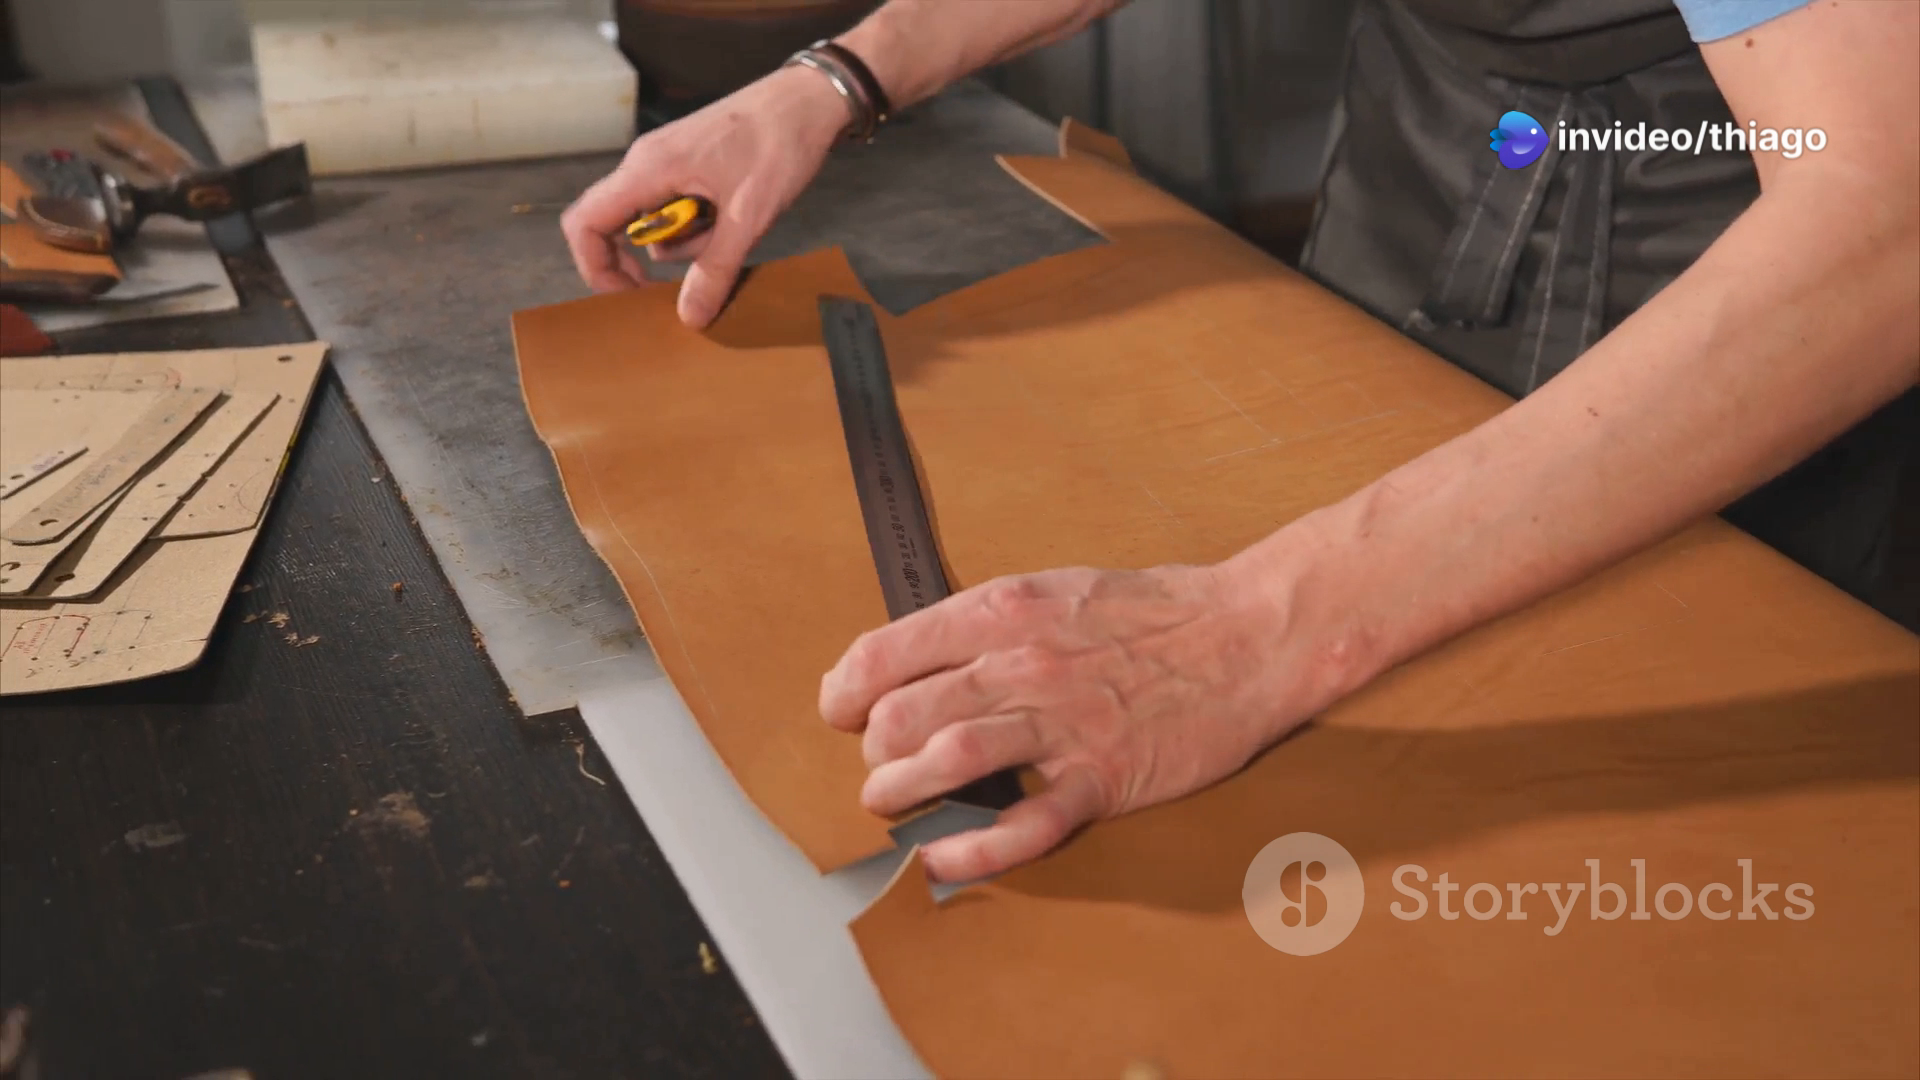cortante: (628, 216, 678, 240)
